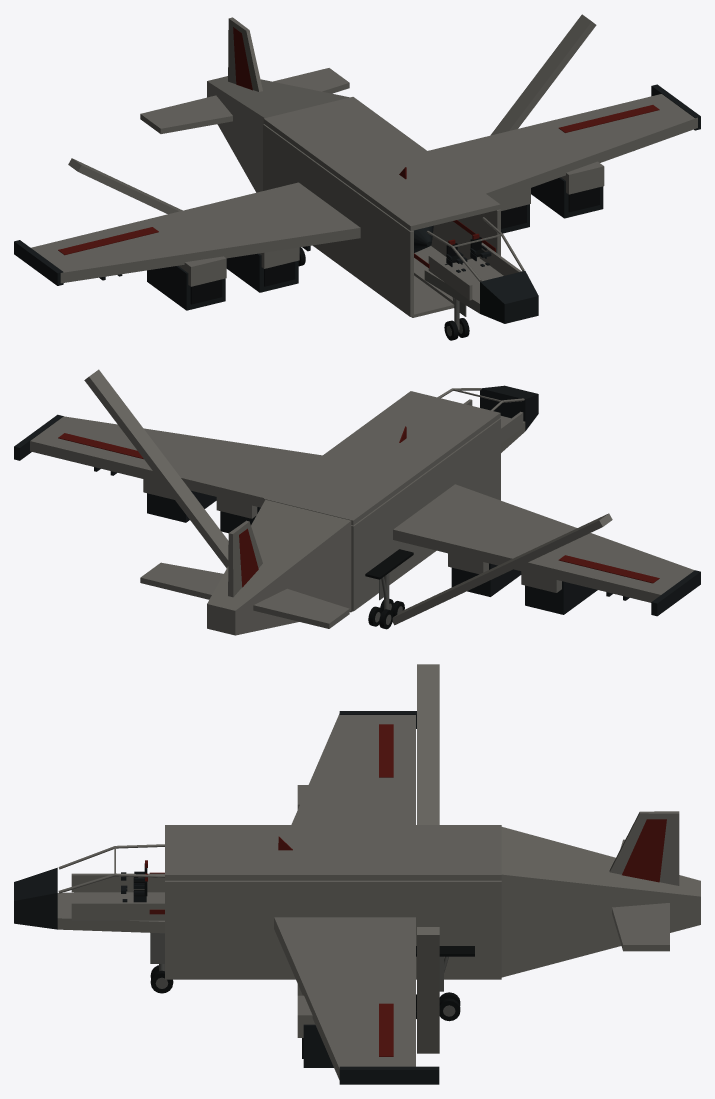
3 views of the same model, one above another, from view 1: azimuth 30°, elevation 25°; view 2: azimuth 150°, elevation 25°; view 3: azimuth 270°, elevation 25° (orthographic). The views are drawn at different scales.
Parts seen in each view (by area): view 1: bomber-painted, flap-right-painted, flap-left-painted, bomber-bay-door-left-painted, crew-seating-batch-painted, bomber-bay-door-right-painted; view 2: bomber-painted, flap-right-painted, flap-left-painted; view 3: bomber-painted, flap-left-painted, flap-right-painted.
Boxes of the visible parts, x1,y1,x2,y2 form: bomber-painted: [14, 17, 700, 323]; flap-right-painted: [490, 14, 596, 135]; flap-left-painted: [68, 158, 182, 214]; bomber-bay-door-left-painted: [411, 275, 454, 317]; crew-seating-batch-painted: [446, 233, 491, 272]; bomber-bay-door-right-painted: [414, 246, 453, 303]; bomber-painted: [14, 385, 700, 635]; flap-right-painted: [84, 369, 228, 568]; flap-left-painted: [392, 513, 612, 625]; bomber-painted: [14, 711, 700, 1084]; flap-left-painted: [417, 664, 439, 824]; flap-right-painted: [417, 927, 439, 1053].
Size of the model in its own units: 195 by 56.36 by 158.
